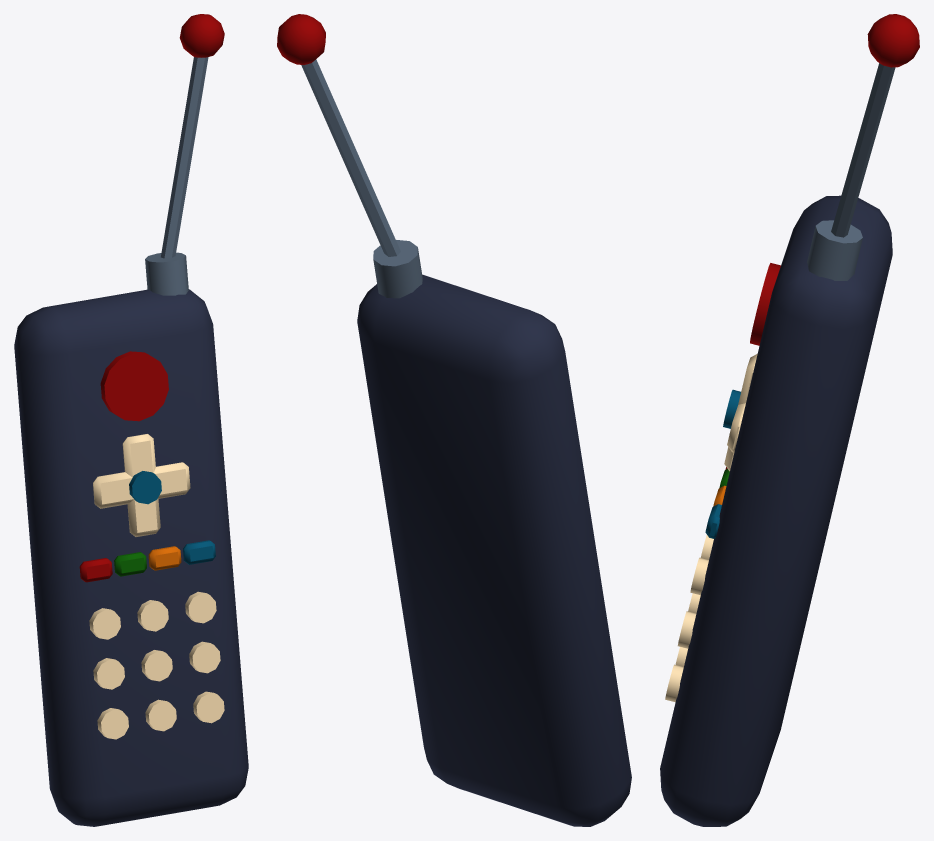
Rendered from RemoteControl.obj.
3 renders of one model, left to right at view 1: azimuth 30°, elevation 25°; view 2: azimuth 150°, elevation 25°; view 3: azimuth 270°, elevation 25°, orthographic. The views are drawn at different scales.
Visible parts, largest first — view 1: RemoteControl; view 2: RemoteControl; view 3: RemoteControl.
Part boxes in pixels (<box>): RemoteControl: <box>14,14,248,826</box>; RemoteControl: <box>277,14,631,826</box>; RemoteControl: <box>660,14,919,826</box>.
Size of the model in its own units: 1.31 by 3.82 by 1.06.
